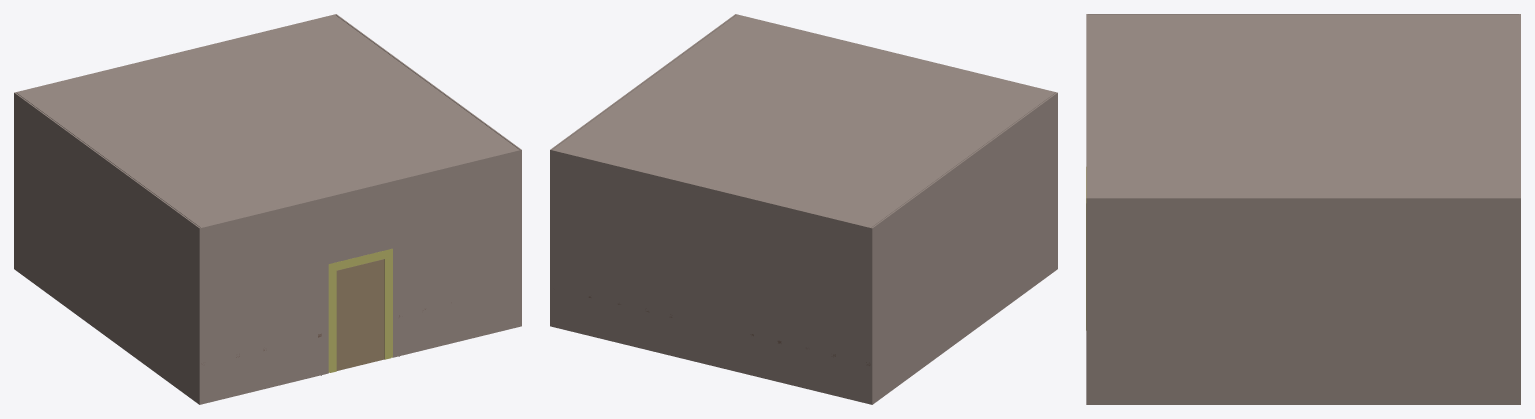
File: Room02_Attic.fbx
The picture shows the model from 3 angles, left to right: view 1: azimuth 30°, elevation 25°; view 2: azimuth 150°, elevation 25°; view 3: azimuth 270°, elevation 25°; orthographic projection. The views are drawn at different scales.
Parts seen in each view (by area): view 1: Roof, WallSlicedPosZ, WallPosX, DoorPosZ, DoorFramePosZ, WallNegX; view 2: Roof, WallNegZ, WallPosX, WallNegX; view 3: WallNegX, Roof, WallPosX.
Boxes of the visible parts, x1=… form: Roof: x1=17, y1=15, x2=518, y2=227; WallSlicedPosZ: x1=200, y1=149, x2=521, y2=404; WallPosX: x1=14, y1=92, x2=201, y2=404; DoorPosZ: x1=336, y1=259, x2=384, y2=370; DoorFramePosZ: x1=328, y1=248, x2=392, y2=372; WallNegX: x1=336, y1=14, x2=521, y2=326; Roof: x1=553, y1=15, x2=1054, y2=227; WallNegZ: x1=550, y1=149, x2=871, y2=404; WallPosX: x1=870, y1=92, x2=1057, y2=404; WallNegX: x1=550, y1=14, x2=735, y2=326; WallNegX: x1=1086, y1=197, x2=1520, y2=404; Roof: x1=1088, y1=15, x2=1518, y2=197; WallPosX: x1=1086, y1=14, x2=1520, y2=14.
Size of the model in its own units: 100 by 52.79 by 100.
